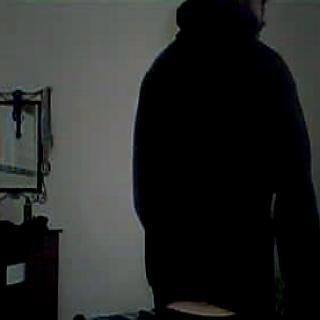Navy Sweatpants: (151, 303, 277, 320)
